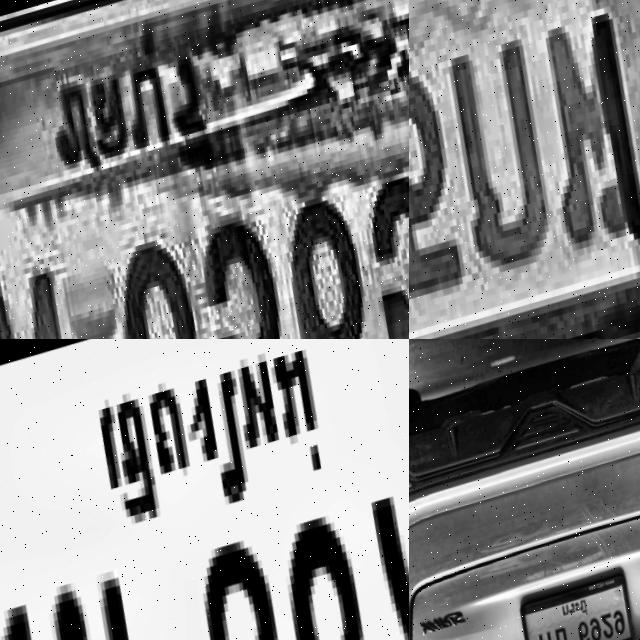license-plate: (0, 0, 409, 339), (0, 339, 409, 640), (409, 0, 640, 339), (513, 565, 640, 640)
